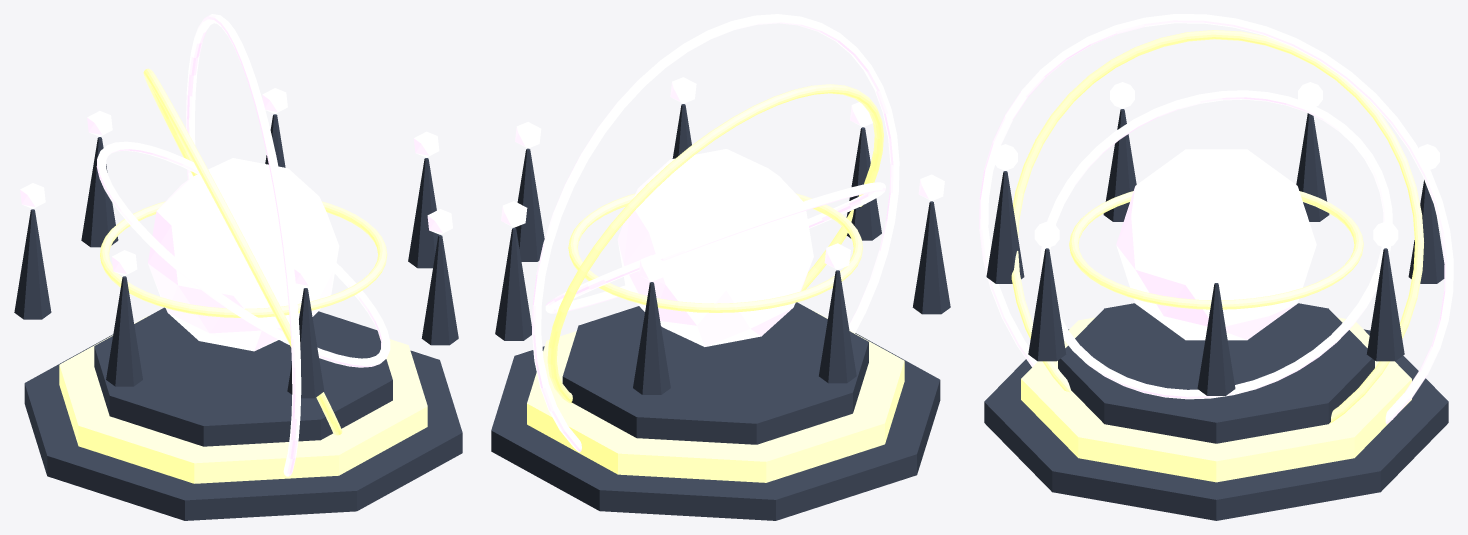
The model's file is gpu-blender-v24.glb.
3 views of the same model, side by side, from view 1: azimuth 30°, elevation 25°; view 2: azimuth 150°, elevation 25°; view 3: azimuth 270°, elevation 25° (orthographic). The views are drawn at different scales.
Visible parts, largest first — view 1: Cylinder.002, SovereignCore_promptmaster-studio, Cylinder, Cylinder.001, Torus.003, Torus.001, Torus, Torus.002, Cone.003, Cone.006, Cone.004, Cone (+8 smaller); view 2: Cylinder.002, SovereignCore_promptmaster-studio, Cylinder, Cylinder.001, Torus.003, Torus.002, Torus.001, Torus, Cone.003, Cone.004, Cone.002, Cone.001 (+9 smaller); view 3: SovereignCore_promptmaster-studio, Cylinder.002, Cylinder, Cylinder.001, Torus.003, Torus.002, Torus.001, Torus, Cone.001, Cone.006, Cone, Cone.005 (+5 smaller).
Boxes of the visible parts, left/top/right/bottom form: Cylinder.002: left=94, top=307, right=392, bottom=446; SovereignCore_promptmaster-studio: left=148, top=158, right=339, bottom=351; Cylinder: left=24, top=334, right=462, bottom=520; Cylinder.001: left=59, top=315, right=427, bottom=483; Torus.003: left=186, top=14, right=301, bottom=476; Torus.001: left=96, top=141, right=390, bottom=367; Torus: left=100, top=201, right=387, bottom=317; Torus.002: left=143, top=68, right=342, bottom=435; Cone.003: left=14, top=209, right=51, bottom=319; Cone.006: left=421, top=235, right=458, bottom=345; Cone.004: left=106, top=276, right=142, bottom=386; Cone: left=408, top=158, right=440, bottom=268; Cylinder.002: left=562, top=302, right=868, bottom=444; SovereignCore_promptmaster-studio: left=617, top=149, right=813, bottom=346; Cylinder: left=491, top=333, right=940, bottom=520; Cylinder.001: left=527, top=310, right=904, bottom=482; Torus.003: left=532, top=14, right=899, bottom=452; Torus.002: left=547, top=84, right=883, bottom=403; Torus.001: left=545, top=182, right=885, bottom=313; Torus: left=568, top=193, right=862, bottom=312; Cone.003: left=819, top=270, right=856, bottom=383; Cone.004: left=912, top=201, right=950, bottom=314; Cone.002: left=633, top=282, right=670, bottom=394; Cone.001: left=495, top=228, right=531, bottom=340; SovereignCore_promptmaster-studio: left=1116, top=149, right=1316, bottom=340; Cylinder.002: left=1058, top=303, right=1374, bottom=443; Cylinder: left=984, top=329, right=1448, bottom=520; Cylinder.001: left=1021, top=317, right=1411, bottom=482; Torus.003: left=979, top=14, right=1453, bottom=424; Torus.002: left=1011, top=30, right=1423, bottom=422; Torus.001: left=1040, top=90, right=1392, bottom=399; Torus: left=1069, top=191, right=1363, bottom=309; Cone.001: left=1366, top=248, right=1404, bottom=361; Cone.006: left=1028, top=248, right=1066, bottom=361; Cone: left=1197, top=283, right=1235, bottom=395; Cone.005: left=986, top=171, right=1024, bottom=283.
Size of the model in its own units: 4.41 by 4.7 by 4.49.
